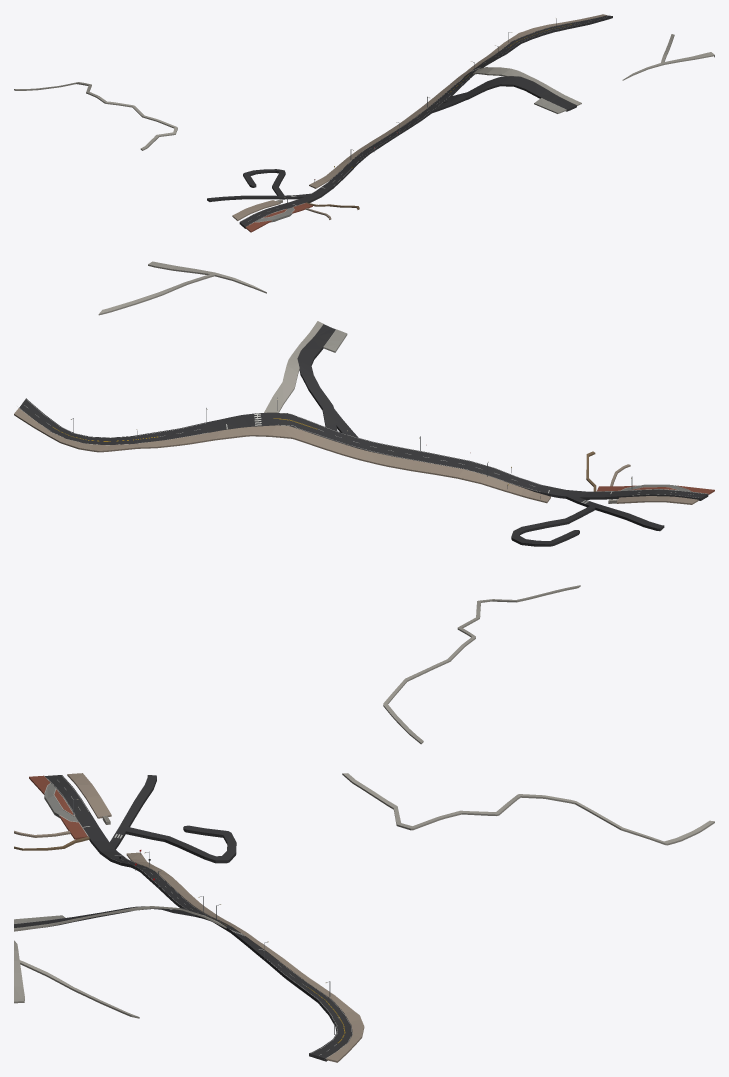
Rendered from 17-109450-59481.4a504aba.glb.
3 renders of one model, top to bottom at view 1: azimuth 30°, elevation 25°; view 2: azimuth 150°, elevation 25°; view 3: azimuth 270°, elevation 25°, orthographic. The views are drawn at different scales.
Bounding box in the file's own units: 295 × 63.47 × 268.
